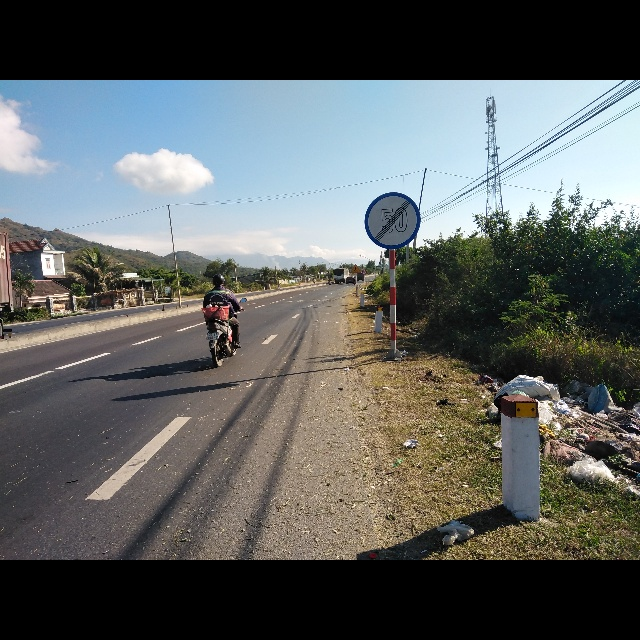Hết hạn chế tốc độ tối đa 50km/h: (363, 188, 420, 249)
